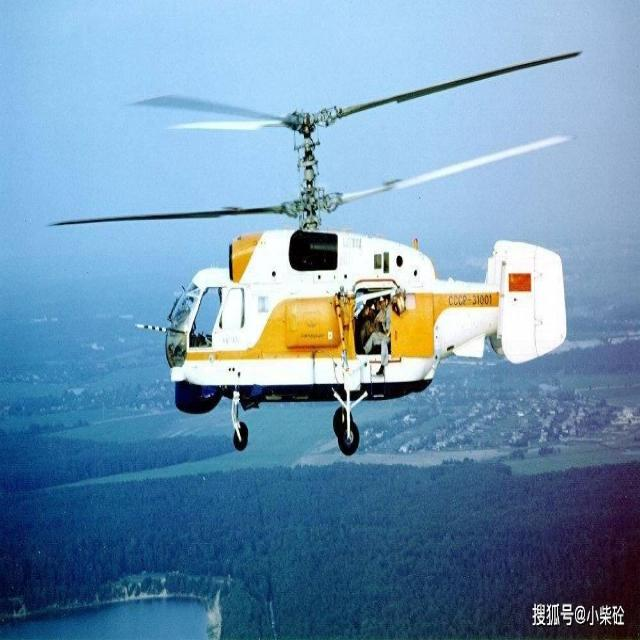MIL_HELO: (41, 45, 588, 484)
